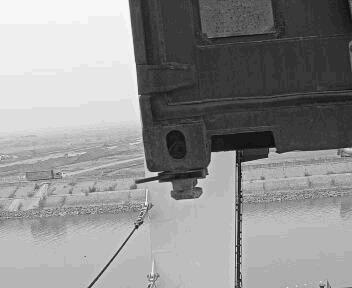twist_lock_1: (147, 159, 213, 207)
